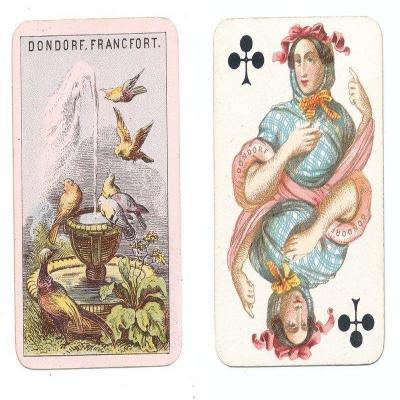graphics: (213, 15, 388, 368), (12, 17, 184, 371)
